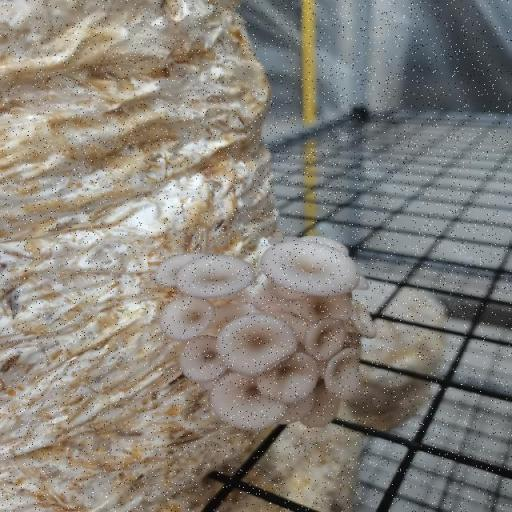White Oyster Mushroom: (150, 234, 378, 435)
